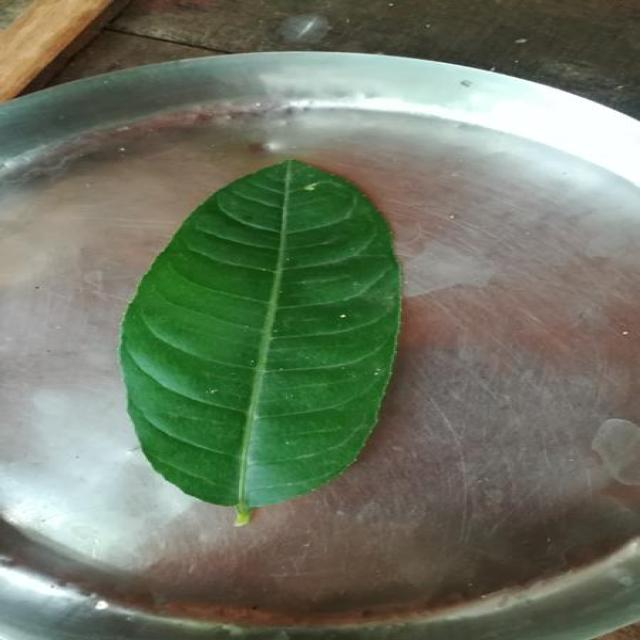badipala: (120, 160, 402, 524)
